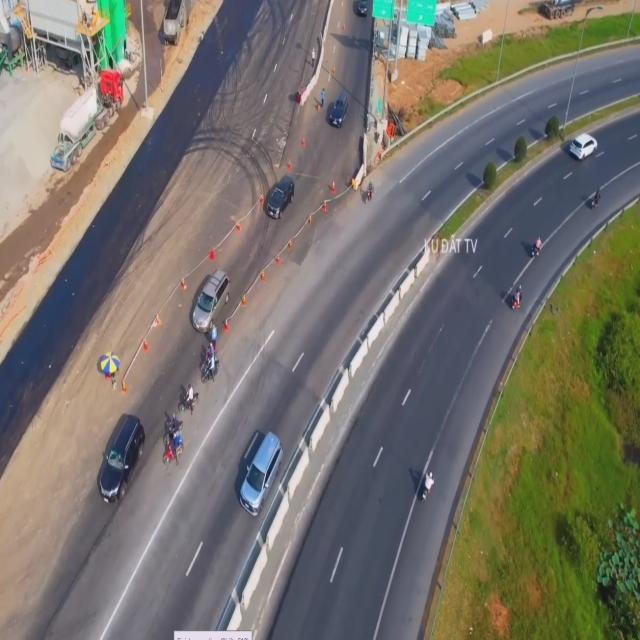car: (238, 429, 284, 521), (97, 412, 145, 500), (192, 266, 230, 336), (265, 172, 298, 226), (329, 92, 352, 127), (571, 133, 598, 161), (356, 0, 367, 21)
motorbike: (162, 435, 182, 466), (177, 391, 199, 418), (200, 357, 219, 384), (512, 284, 530, 312), (423, 466, 438, 499), (590, 185, 604, 212), (532, 235, 546, 259)
